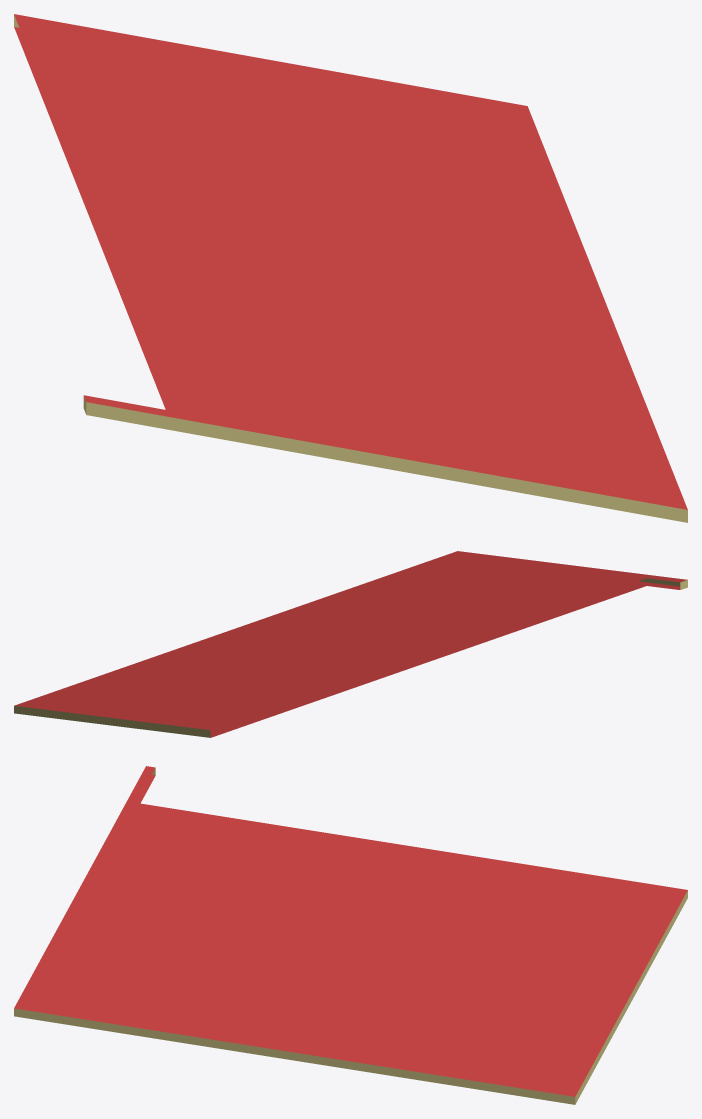
3 renders of one model, top to bottom at view 1: azimuth 30°, elevation 25°; view 2: azimuth 150°, elevation 25°; view 3: azimuth 270°, elevation 25°, orthographic. The views are drawn at different scales.
Size of the model in its own units: 6.36 by 7.61 by 1.26.
